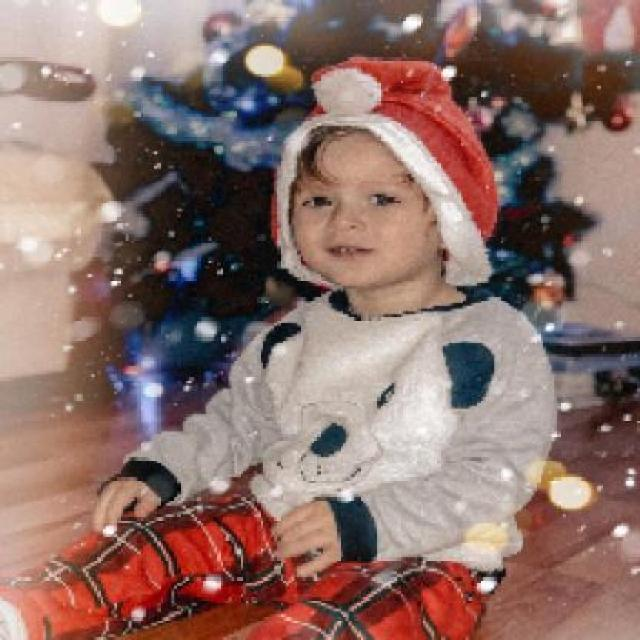child: (0, 57, 560, 637)
